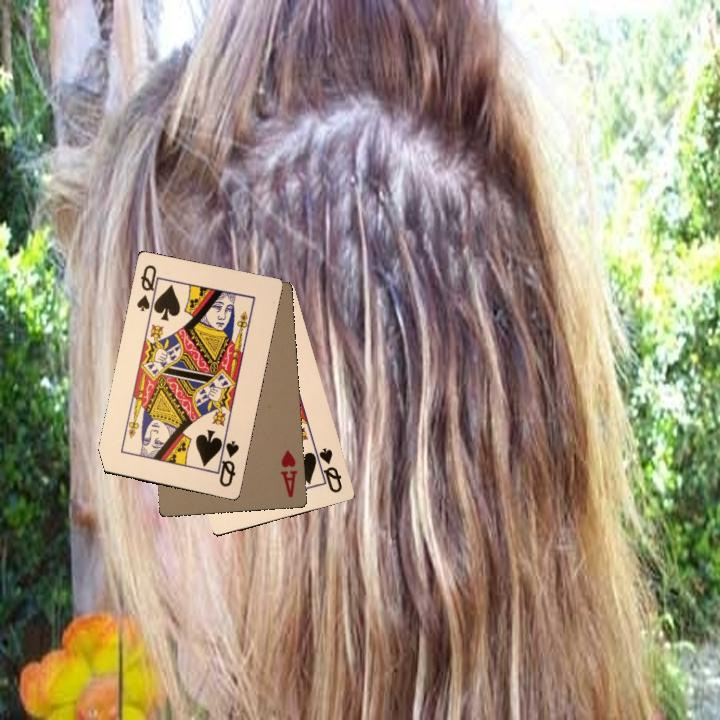Ah: (277, 446, 300, 500)
Qs: (310, 444, 345, 495), (133, 261, 163, 315), (213, 434, 241, 489)
